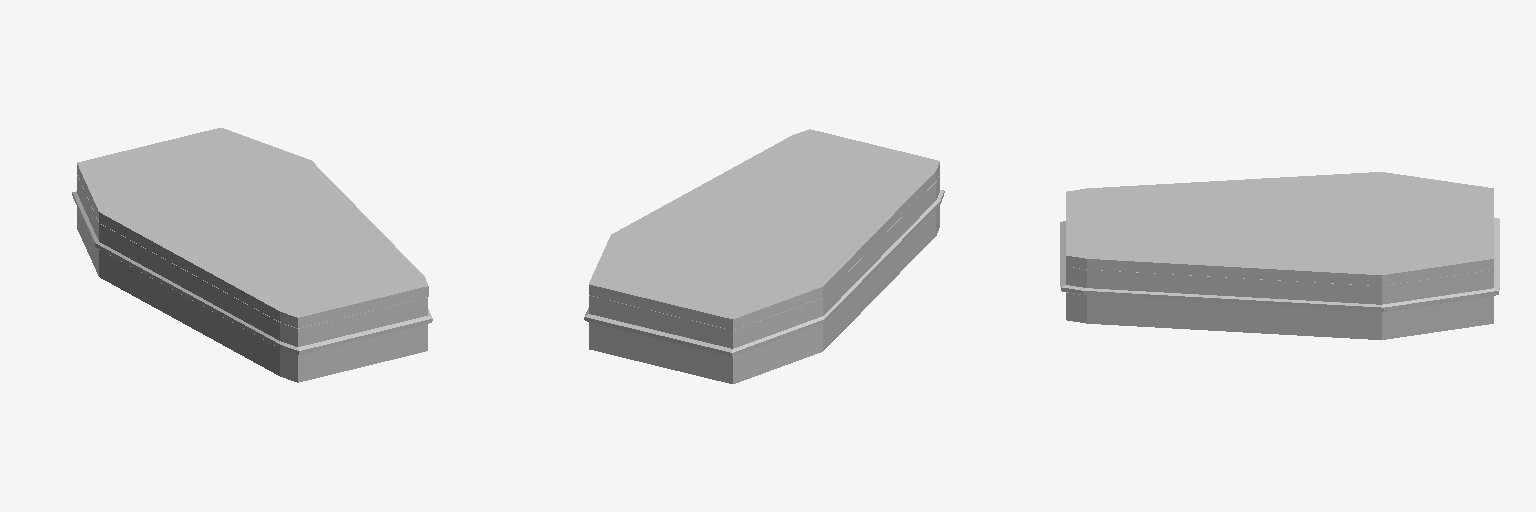
The model's file is Coffin_closed.obj.
3 renders of one model, left to right at view 1: azimuth 30°, elevation 25°; view 2: azimuth 150°, elevation 25°; view 3: azimuth 270°, elevation 25°, orthographic.
Visible parts, largest first — view 1: Coffin_top, pCube39; view 2: Coffin_top, pCube39; view 3: Coffin_top, pCube39.
Boxes of the visible parts, <box> form: Coffin_top: <box>77,128,428,328</box>; pCube39: <box>72,175,432,382</box>; Coffin_top: <box>589,129,939,329</box>; pCube39: <box>584,174,944,383</box>; Coffin_top: <box>1066,172,1493,285</box>; pCube39: <box>1060,218,1499,339</box>.
Size of the model in its own units: 1054 by 301 by 1843.